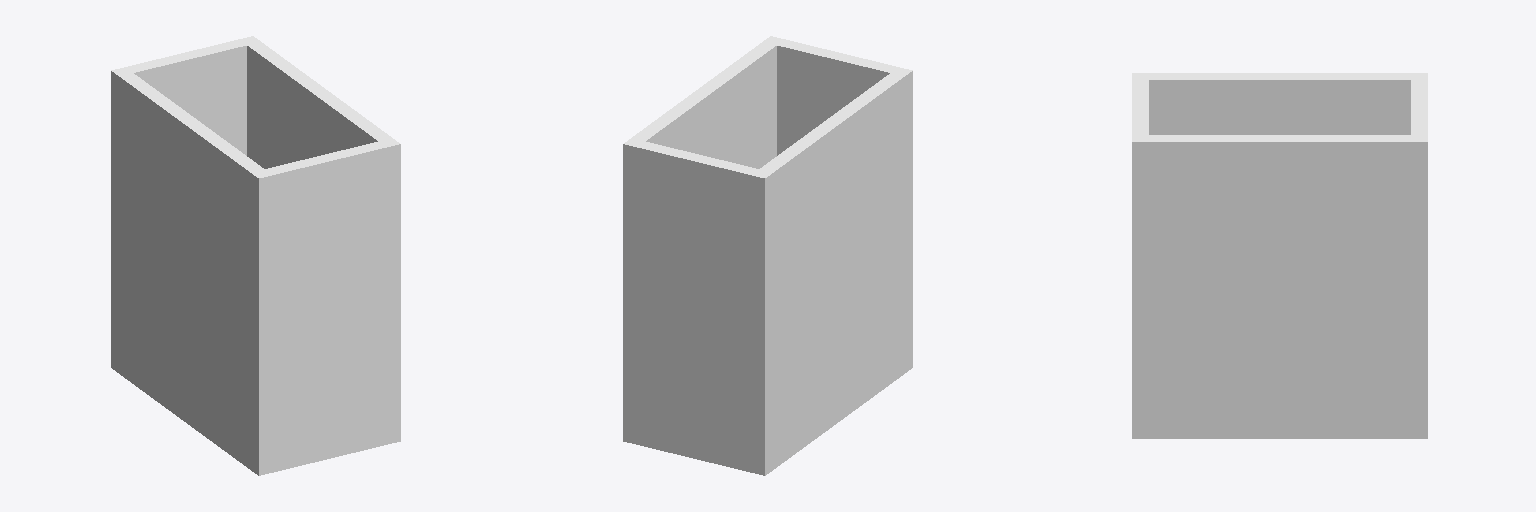
File: ChickenBagOfHolding.obj
3 views of the same model, side by side, from view 1: azimuth 30°, elevation 25°; view 2: azimuth 150°, elevation 25°; view 3: azimuth 270°, elevation 25° (orthographic).
Parts seen in each view (by area): view 1: ChickenBagOfHolding; view 2: ChickenBagOfHolding; view 3: ChickenBagOfHolding.
Part boxes in pixels (left/top/right/bottom): ChickenBagOfHolding: left=111, top=36, right=400, bottom=475; ChickenBagOfHolding: left=623, top=36, right=912, bottom=475; ChickenBagOfHolding: left=1132, top=73, right=1427, bottom=438.
Size of the model in its own units: 10 by 20 by 18.